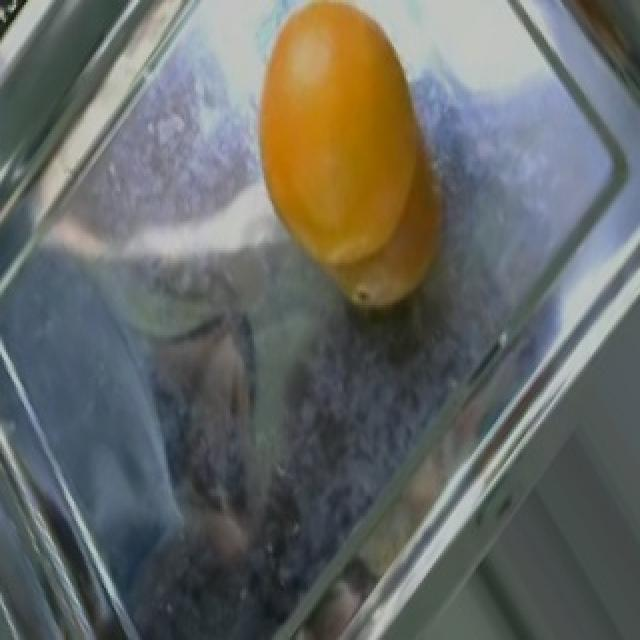Fruit: (234, 0, 462, 330)
